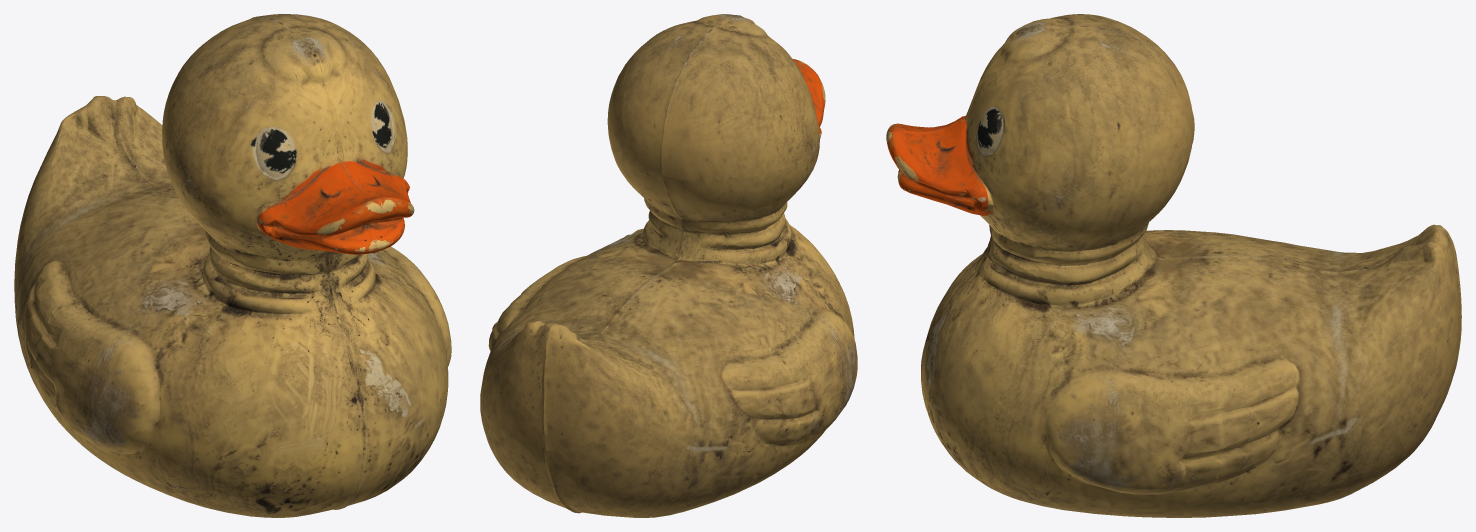
File: paperella_gigante_meshy.glb
3 views of the same model, side by side, from view 1: azimuth 30°, elevation 25°; view 2: azimuth 150°, elevation 25°; view 3: azimuth 270°, elevation 25° (orthographic). The views are drawn at different scales.
Visible parts, largest first — view 1: Mesh_0; view 2: Mesh_0; view 3: Mesh_0.
Boxes of the visible parts, bbox=[...] form: Mesh_0: bbox=[14, 14, 451, 517]; Mesh_0: bbox=[480, 14, 857, 517]; Mesh_0: bbox=[886, 14, 1461, 517].
Bounding box in the file's own units: 1.33 × 1.59 × 1.9.
Materials: 1 (1 with a texture image).
